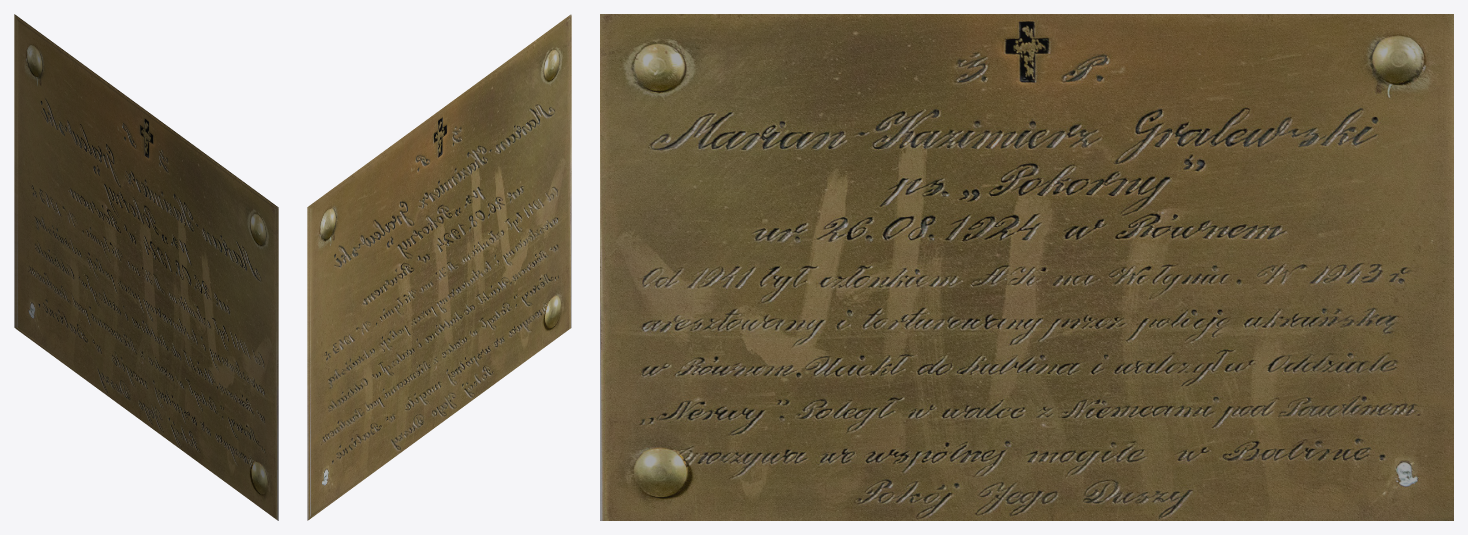
Rendered from 44. ŚP. MARIAN KAZIMIERZ GRALEWSKI.glb.
3 views of the same model, side by side, from view 1: azimuth 30°, elevation 25°; view 2: azimuth 150°, elevation 25°; view 3: azimuth 270°, elevation 25° (orthographic). The views are drawn at different scales.
Visible parts, largest first — view 1: Plane; view 2: Plane; view 3: Plane.
Part boxes in pixels (<box>): Plane: <box>14,14,278,520</box>; Plane: <box>307,14,571,520</box>; Plane: <box>600,14,1453,520</box>.
Bounding box in the file's own units: 0.0102 × 9.5 × 14.5.
Materials: 1 (1 with a texture image).
